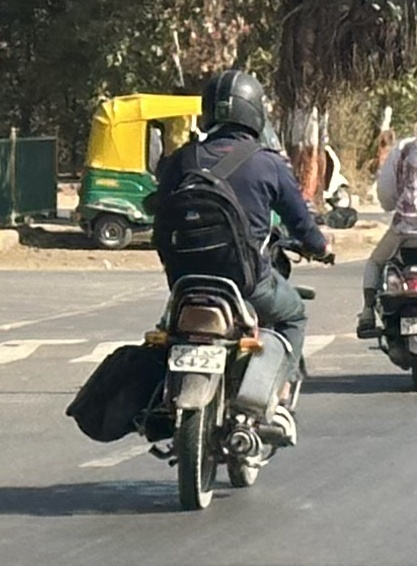BikeWithRider: (58, 61, 362, 517), (348, 98, 417, 398)
Helmet: (191, 62, 273, 144)
